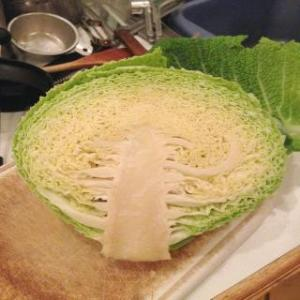cabbage: (21, 68, 283, 262)
